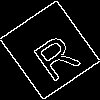R: (25, 25, 83, 84)
